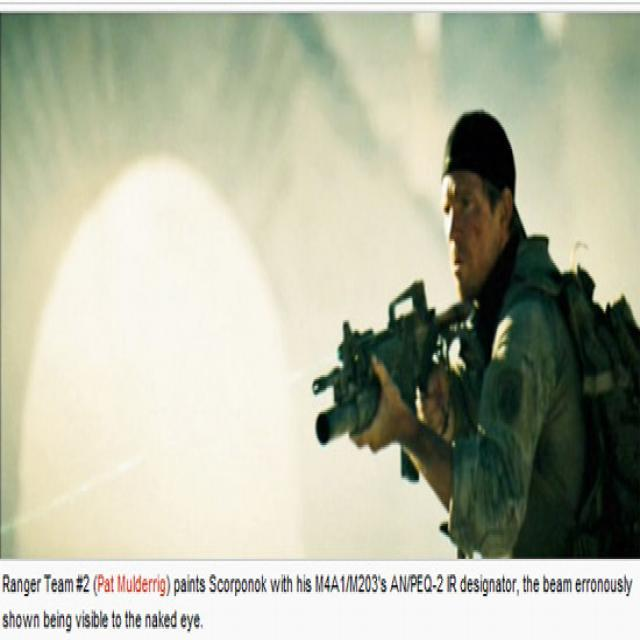weapon: (312, 276, 466, 484)
